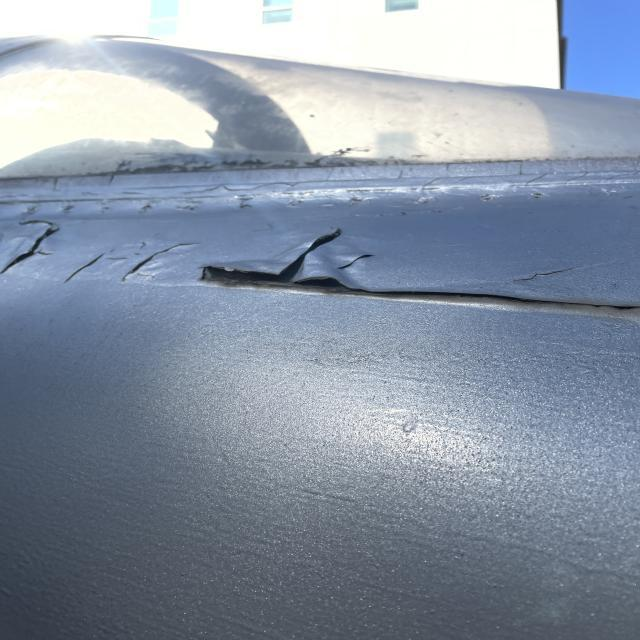crack: (73, 249, 192, 284), (520, 264, 584, 285), (329, 250, 388, 272)
